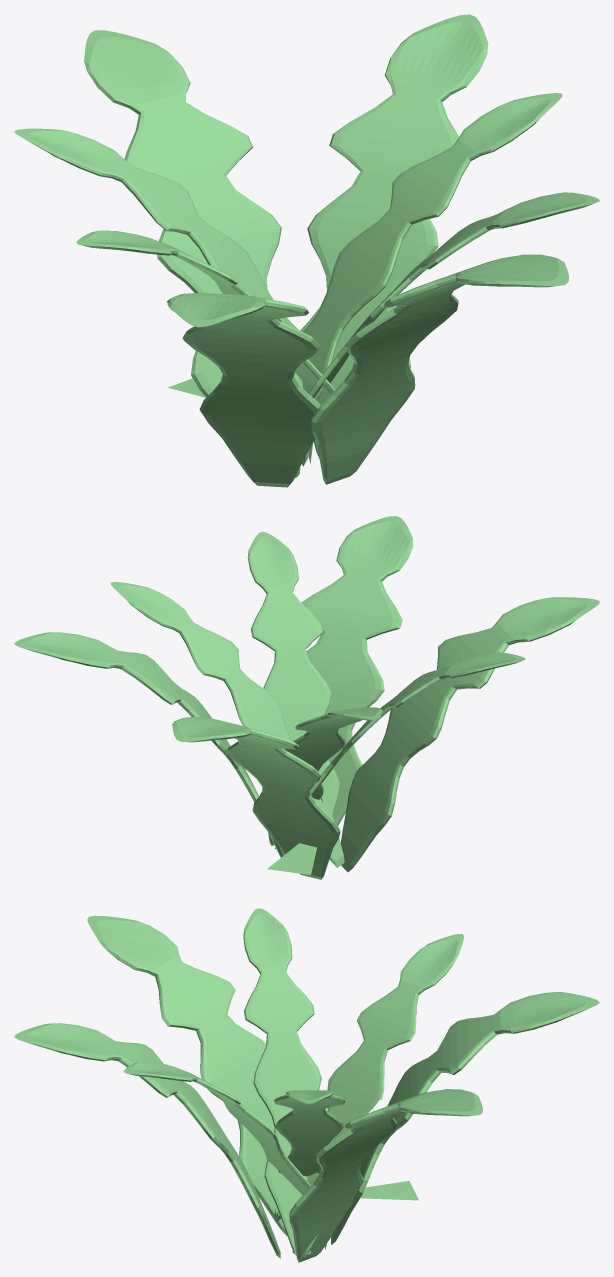
The model's file is Algue-8.gltf.
The picture shows the model from 3 angles, top to bottom: view 1: azimuth 30°, elevation 25°; view 2: azimuth 150°, elevation 25°; view 3: azimuth 270°, elevation 25°; orthographic projection. The views are drawn at different scales.
Visible parts, largest first — view 1: Null; view 2: Null; view 3: Null.
Part boxes in pixels (x1=…): Null: x1=14, y1=14, x2=599, y2=487; Null: x1=14, y1=516, x2=599, y2=879; Null: x1=14, y1=908, x2=599, y2=1262.
Size of the model in its own units: 95.01 by 54.17 by 116.
